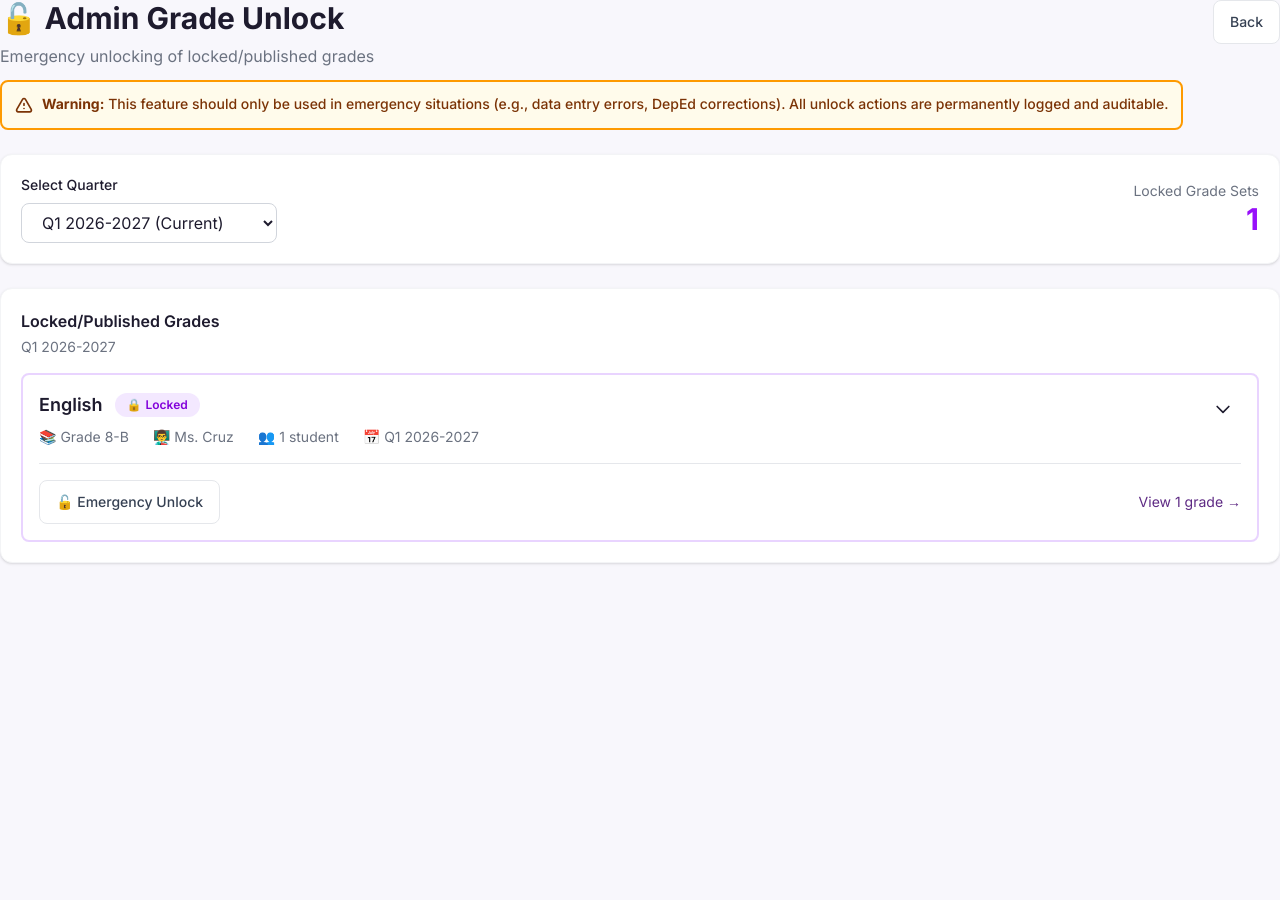
it: AdminUnlockGrades Unlock Modal › opens unlock modal when unlock button is clicked
Expected: the heading "English" is shown, [39, 391, 102, 419]
Click the button "🔓 Emergency Unlock".
click(130, 502)  # box [39, 480, 220, 524]
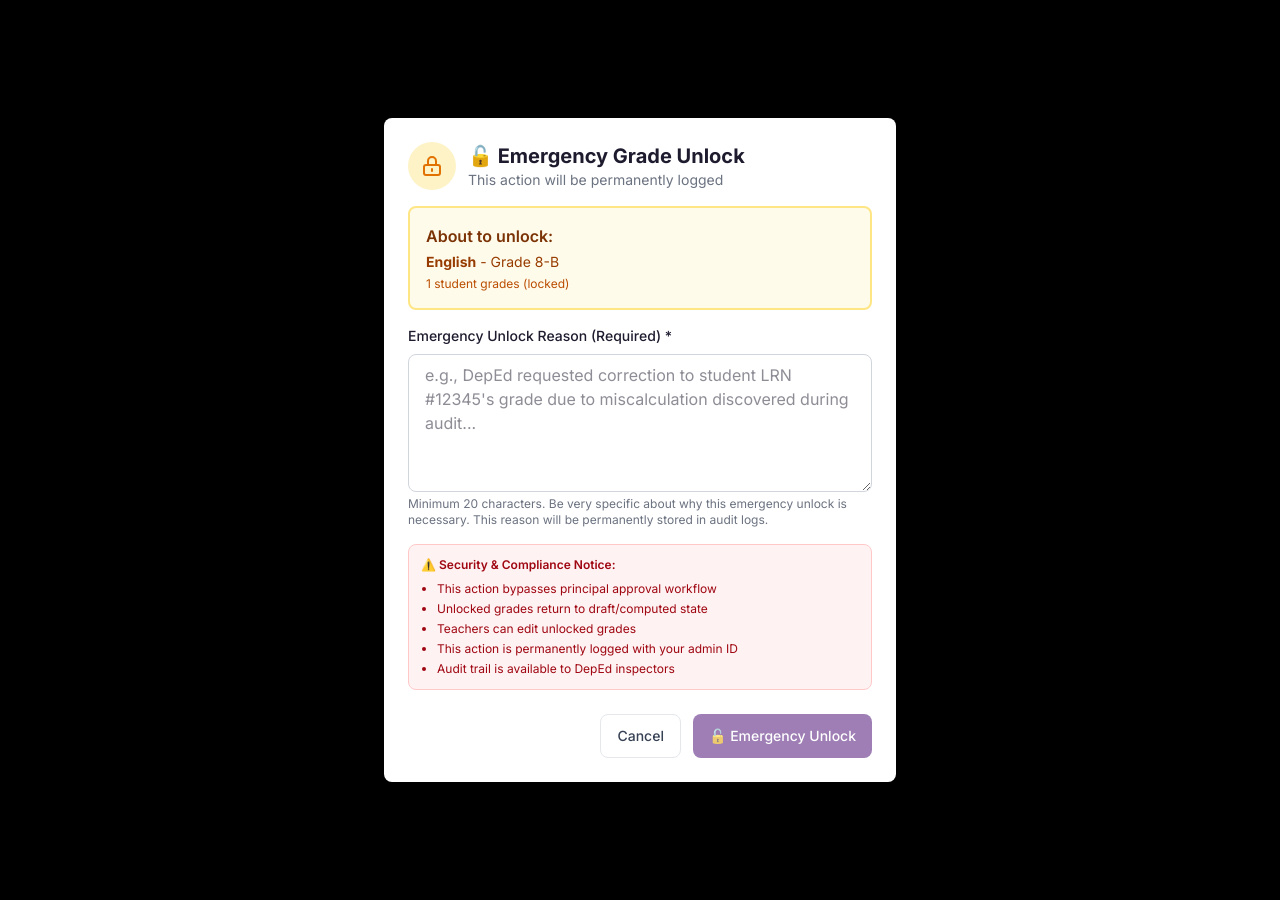
Expected: the heading "🔓 Emergency Grade Unlock" is shown, [468, 142, 745, 170]
